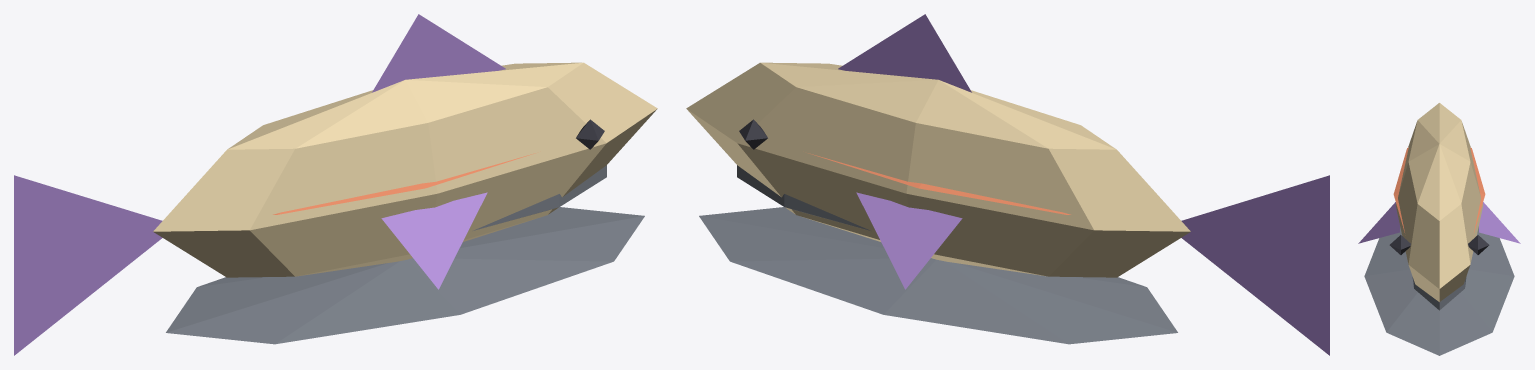
The model's file is deco_ice_trout.obj.
The picture shows the model from 3 angles, left to right: view 1: azimuth 30°, elevation 25°; view 2: azimuth 150°, elevation 25°; view 3: azimuth 270°, elevation 25°; orthographic projection. The views are drawn at different scales.
Parts seen in each view (by area): view 1: deco_ice_trout; view 2: deco_ice_trout; view 3: deco_ice_trout.
Boxes of the visible parts, bbox=[...] form: deco_ice_trout: bbox=[14, 14, 657, 355]; deco_ice_trout: bbox=[686, 14, 1329, 355]; deco_ice_trout: bbox=[1358, 103, 1520, 355].
Size of the model in its own units: 0.0485 by 0.0197 by 0.0156.
1 material, 1 textured.
